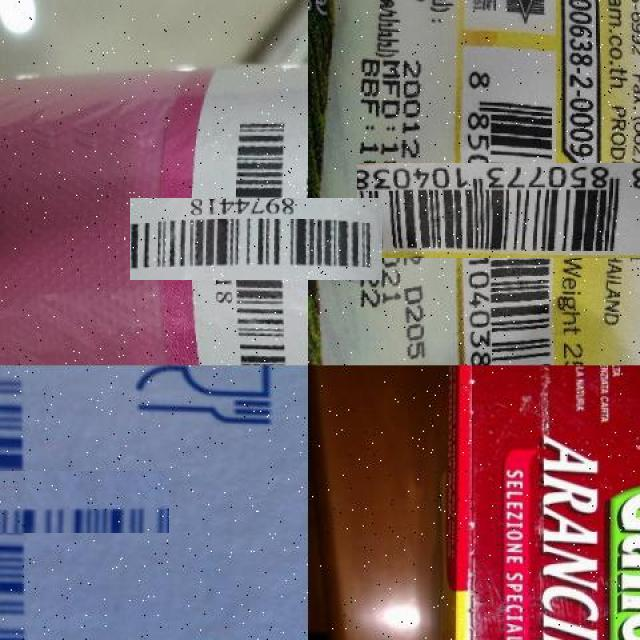Barcode: (411, 109, 612, 312), (172, 155, 340, 322), (0, 419, 116, 587)
